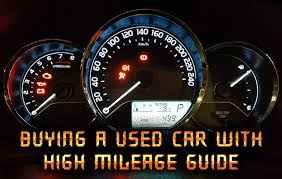Digital_Meter: (131, 100, 193, 127)
